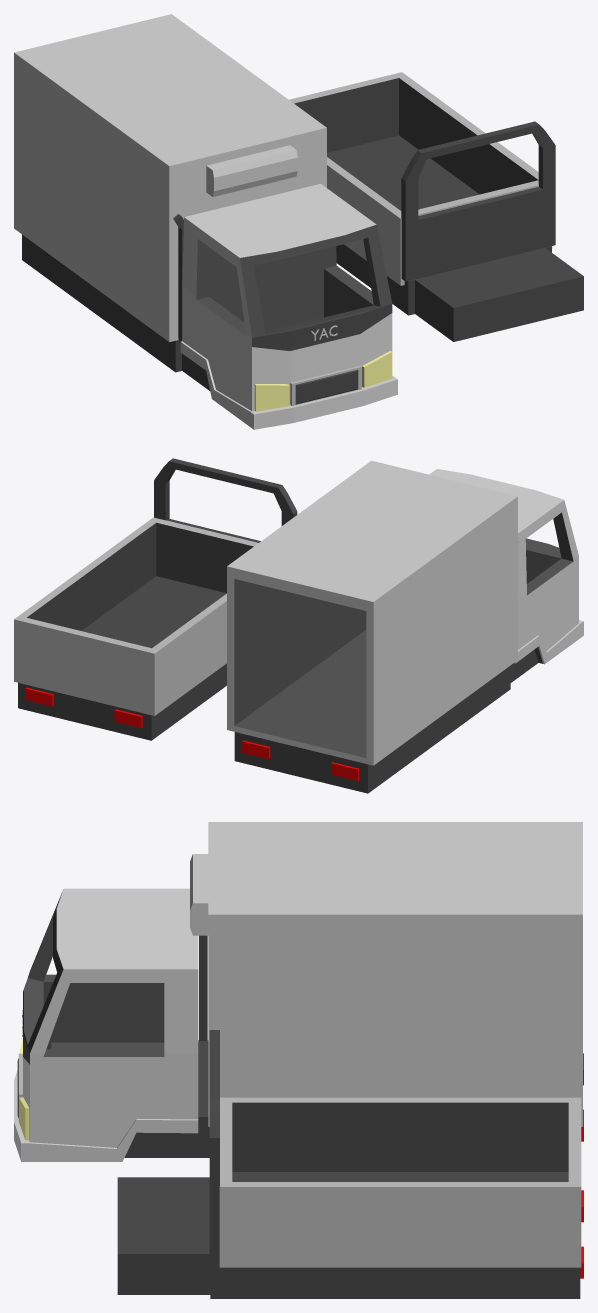
Rendered from boxtruck.fbx.
3 renders of one model, top to bottom at view 1: azimuth 30°, elevation 25°; view 2: azimuth 150°, elevation 25°; view 3: azimuth 270°, elevation 25°, orthographic. The views are drawn at different scales.
Parts seen in each view (by area): view 1: Cube.001, Cube.002, Cube; view 2: Cube.001, Cube.002, Cube; view 3: Cube.001, Cube.002, Cube.
Boxes of the visible parts, x1=… form: Cube.001: x1=14, y1=14, x2=326, y2=390; Cube.002: x1=289, y1=72, x2=583, y2=341; Cube: x1=173, y1=183, x2=397, y2=429; Cube.001: x1=227, y1=460, x2=538, y2=793; Cube.002: x1=14, y1=458, x2=297, y2=740; Cube: x1=429, y1=469, x2=583, y2=664; Cube.001: x1=124, y1=822, x2=583, y2=1157; Cube.002: x1=117, y1=1030, x2=583, y2=1298; Cube: x1=14, y1=888, x2=207, y2=1161.
Bounding box in the file's own units: 665 × 342 × 703.
4 materials, 1 textured.
